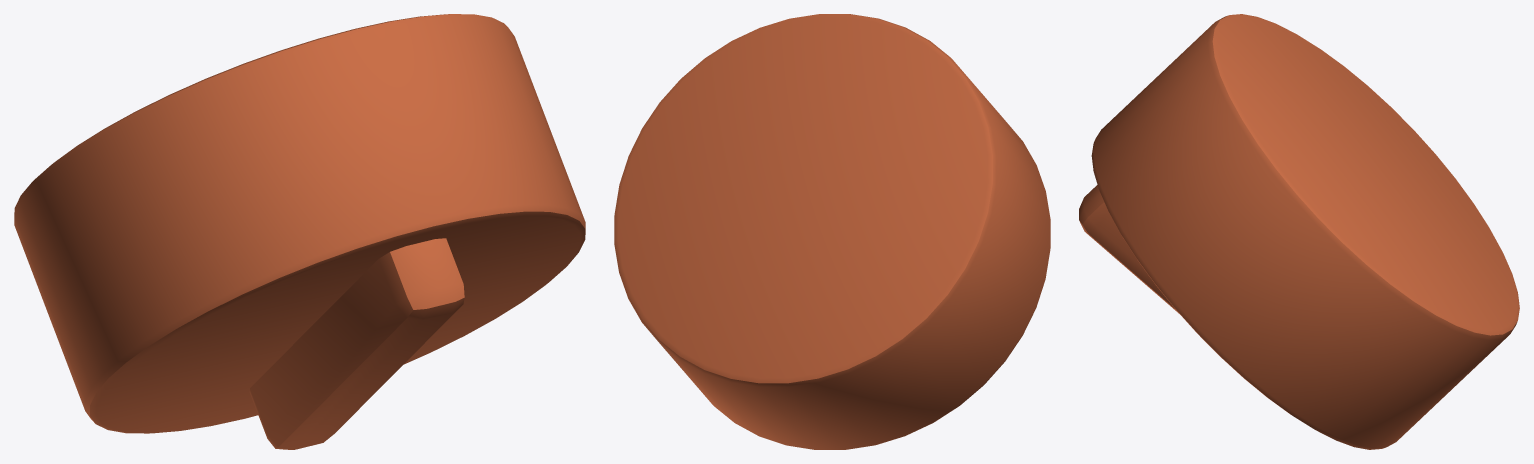
Rendered from wet_dry_vacuum_power_knob.glb.
3 renders of one model, left to right at view 1: azimuth 30°, elevation 25°; view 2: azimuth 150°, elevation 25°; view 3: azimuth 270°, elevation 25°, orthographic. The views are drawn at different scales.
Visible parts, largest first — view 1: wet_dry_vacuum_power_knob; view 2: wet_dry_vacuum_power_knob; view 3: wet_dry_vacuum_power_knob.
Boxes of the visible parts, x1,y1,x2,y2 form: wet_dry_vacuum_power_knob: (14, 14, 585, 449); wet_dry_vacuum_power_knob: (614, 14, 1050, 449); wet_dry_vacuum_power_knob: (1079, 14, 1519, 449).
Size of the model in its own units: 0.048 by 0.047 by 0.0492.
